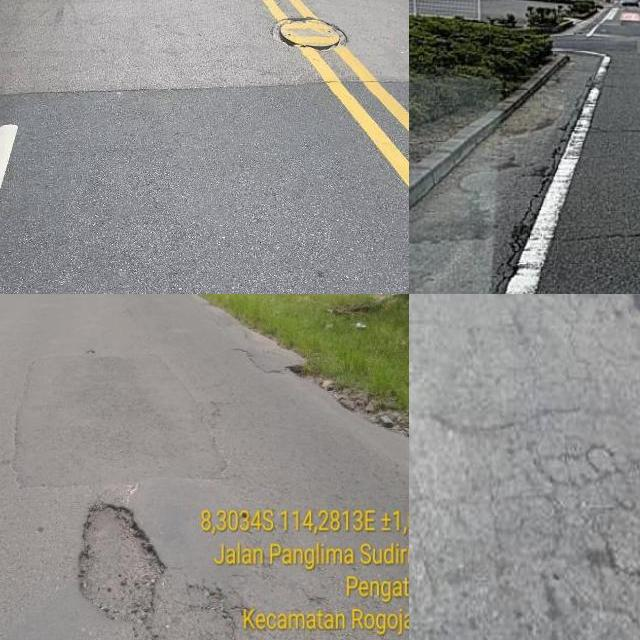Lubang: (77, 500, 171, 640)
Melintang: (562, 222, 640, 255)
Sambungan: (0, 81, 409, 294)
